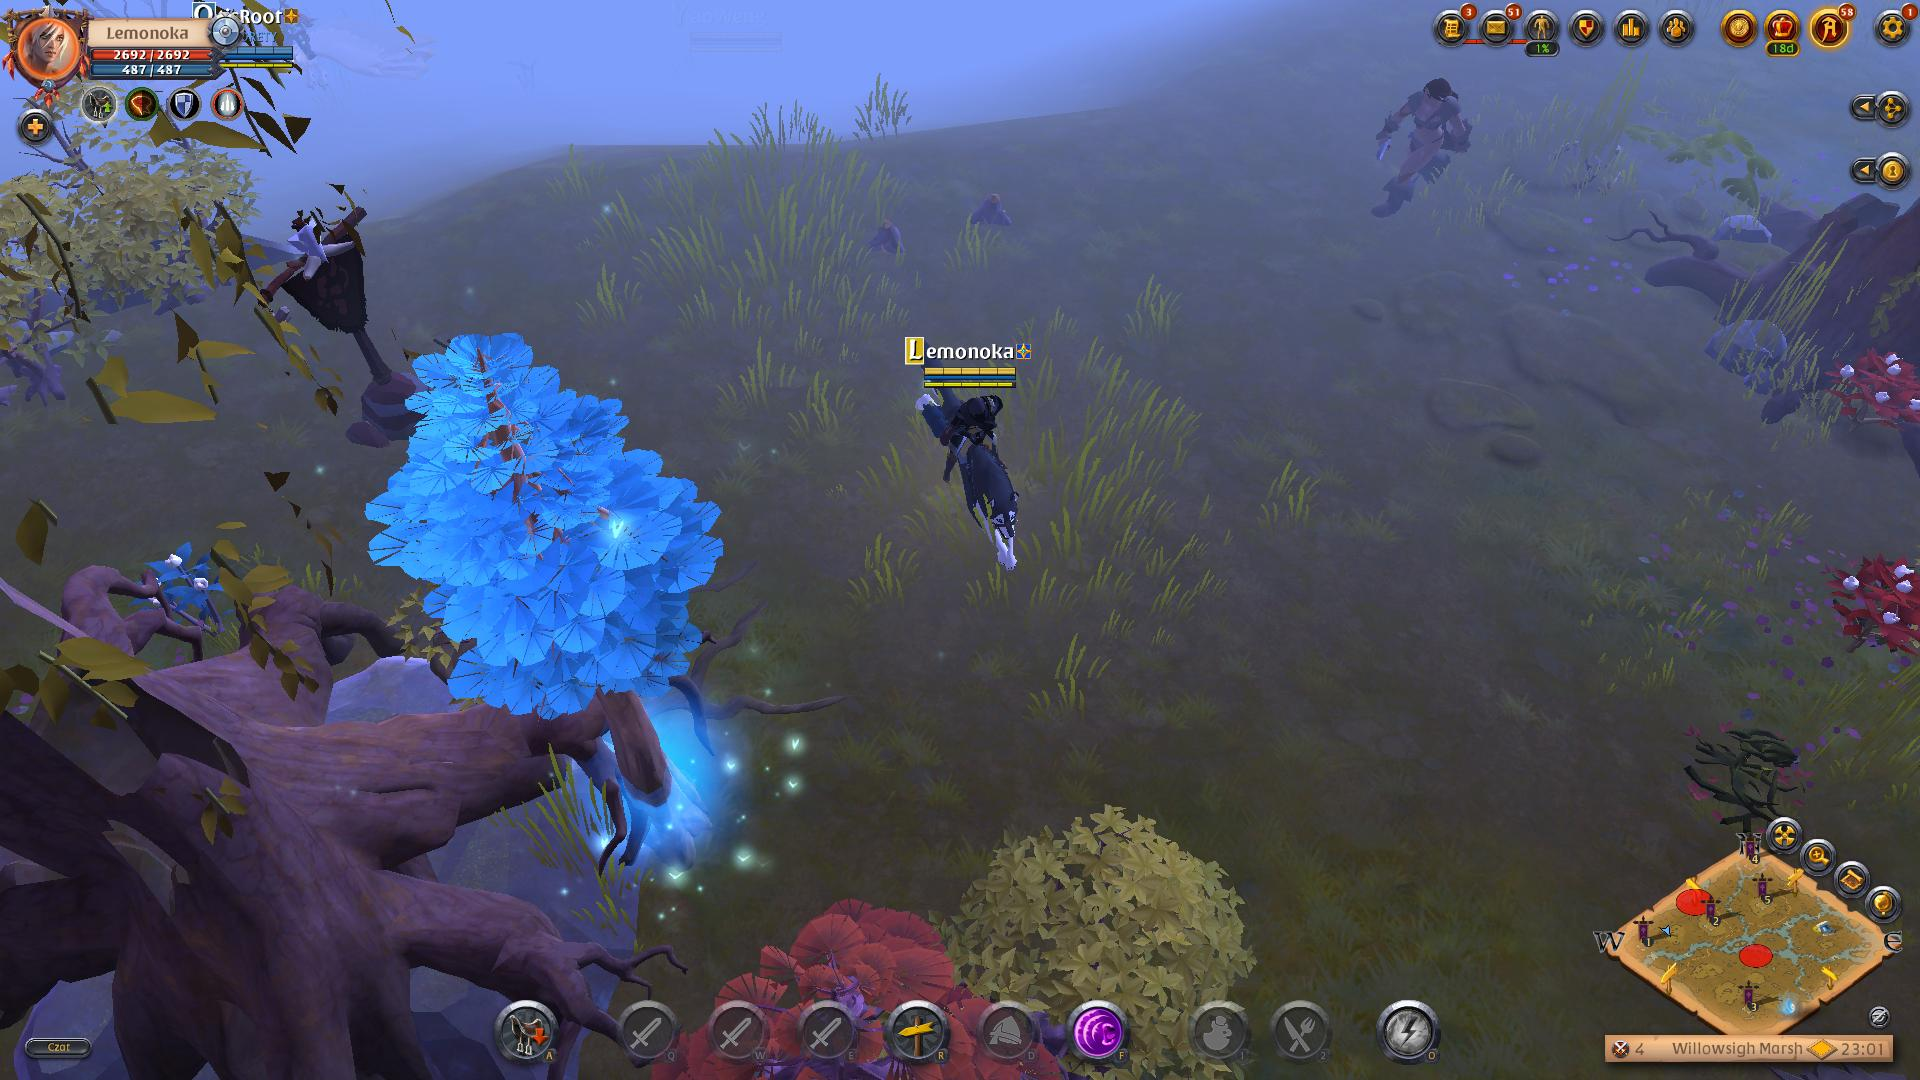fiber tier 5: (1828, 549, 1920, 669), (1832, 340, 1920, 442)
wood tier 4: (364, 328, 721, 724)
